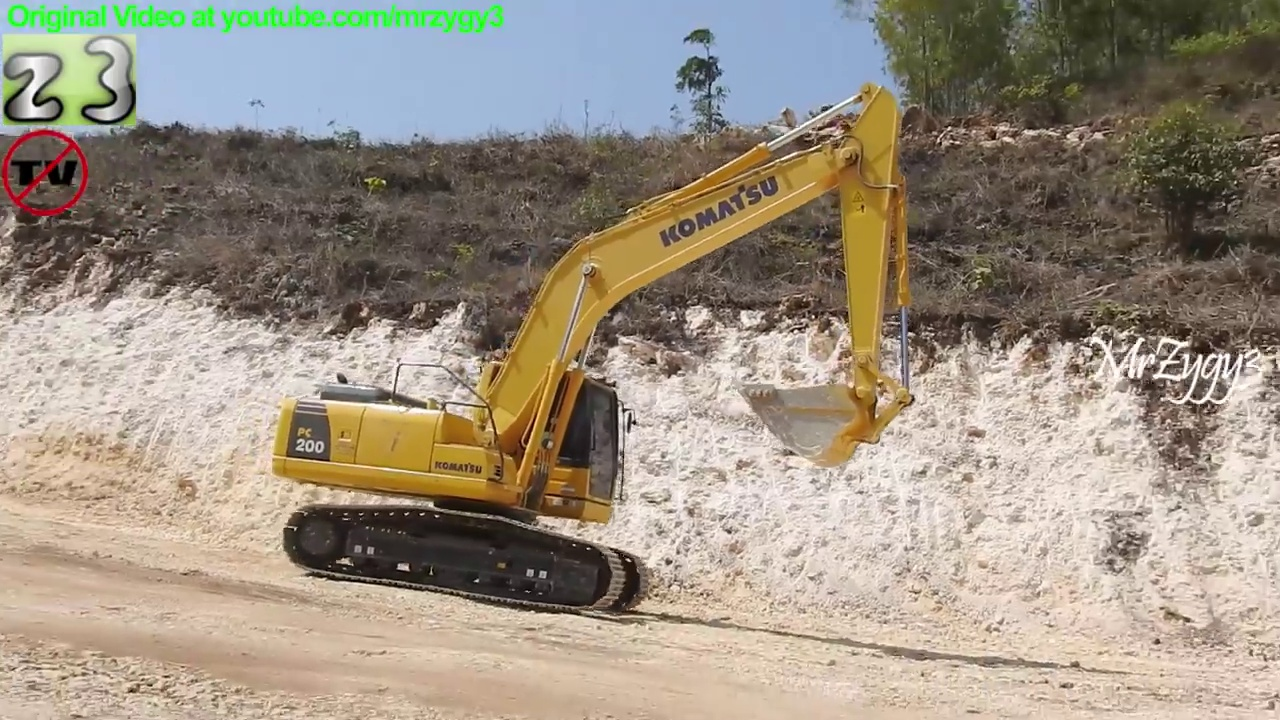excavator: (267, 78, 926, 628)
